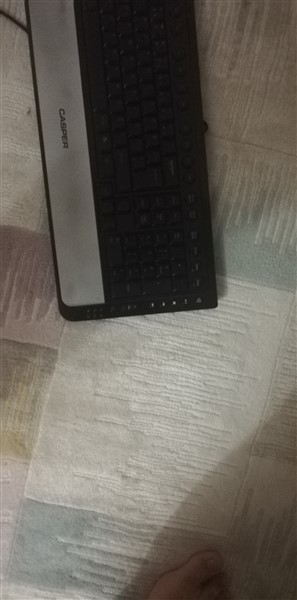klavye: (21, 1, 223, 324)
